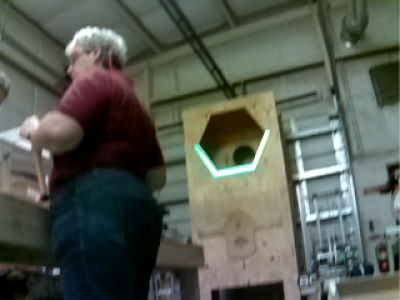target: (193, 129, 269, 180)
